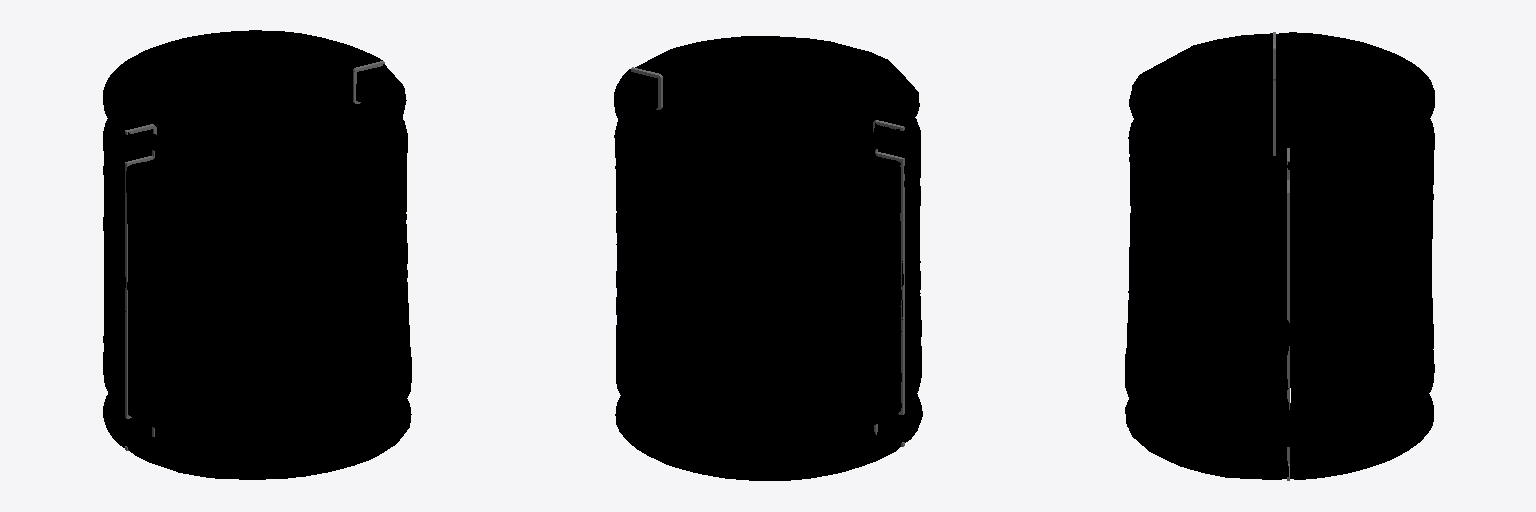
File: CeilingTwoBent.obj
3 renders of one model, left to right at view 1: azimuth 30°, elevation 25°; view 2: azimuth 150°, elevation 25°; view 3: azimuth 270°, elevation 25°, orthographic.
Visible parts, largest first — view 1: Techo_default_bent3 group2, Techo_Birds_default_bent3 group3, rimA; view 2: Techo_Birds_default_bent3 group3, Techo_default_bent3 group2, rimA; view 3: Techo_default_bent3 group2, Techo_Birds_default_bent3 group3, rimA2.
Boxes of the visible parts, x1,y1,x2,y2 form: Techo_default_bent3 group2: [122, 64, 411, 479]; Techo_Birds_default_bent3 group3: [103, 30, 382, 447]; rimA: [125, 124, 156, 450]; Techo_Birds_default_bent3 group3: [614, 69, 901, 480]; Techo_default_bent3 group2: [635, 36, 922, 442]; rimA: [873, 120, 904, 446]; Techo_default_bent3 group2: [1125, 33, 1290, 479]; Techo_Birds_default_bent3 group3: [1276, 32, 1434, 479]; rimA2: [1287, 148, 1289, 480].
Size of the model in its own units: 1.68 by 1.91 by 1.68.